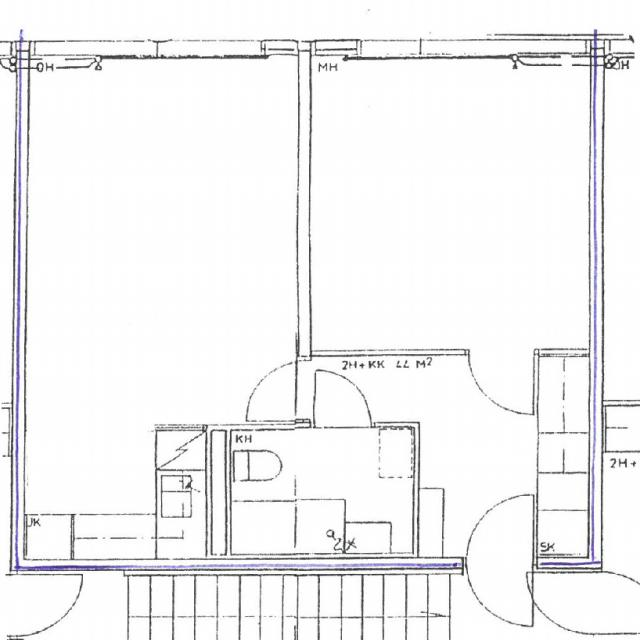door: (466, 558, 534, 638), (466, 493, 534, 572), (236, 360, 312, 420), (469, 350, 534, 418), (313, 368, 371, 430)
